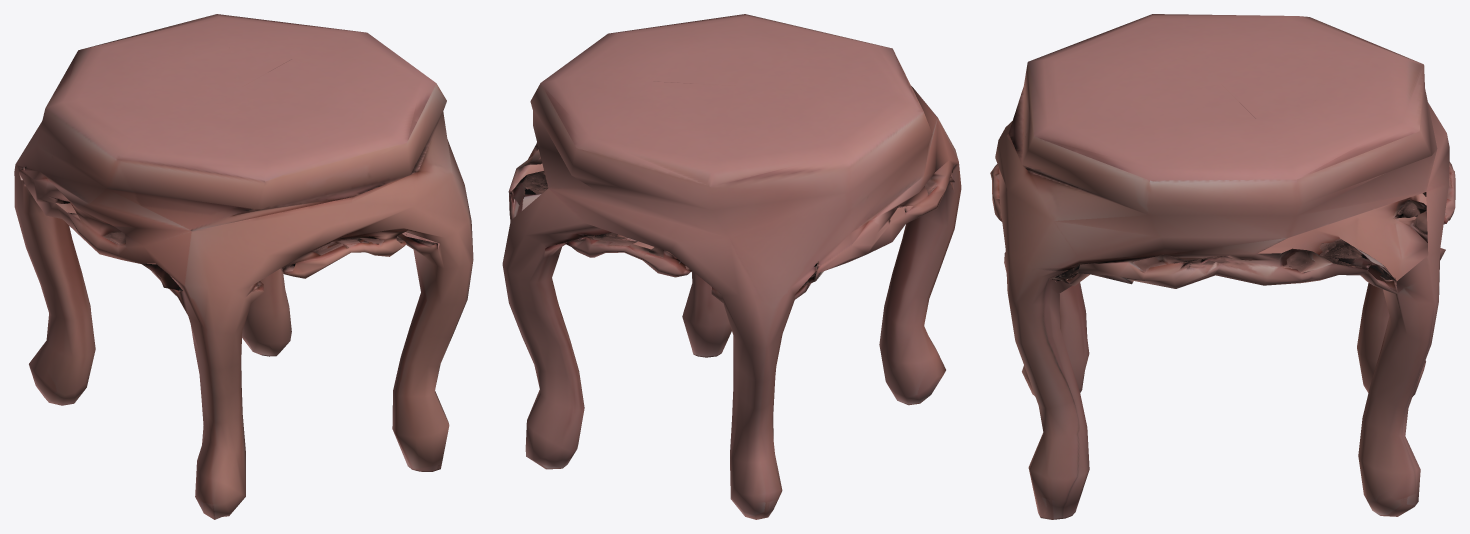
Rendered from Stool.fbx.
3 views of the same model, side by side, from view 1: azimuth 30°, elevation 25°; view 2: azimuth 150°, elevation 25°; view 3: azimuth 270°, elevation 25° (orthographic). The views are drawn at different scales.
Visible parts, largest first — view 1: input; view 2: input; view 3: input.
Part boxes in pixels (left/top/right/bottom): input: left=14, top=14, right=473, bottom=519; input: left=502, top=14, right=961, bottom=519; input: left=990, top=14, right=1455, bottom=519.
Bounding box in the file's own units: 67.37 × 62.77 × 70.8.
Materials: 1 (1 with a texture image).
